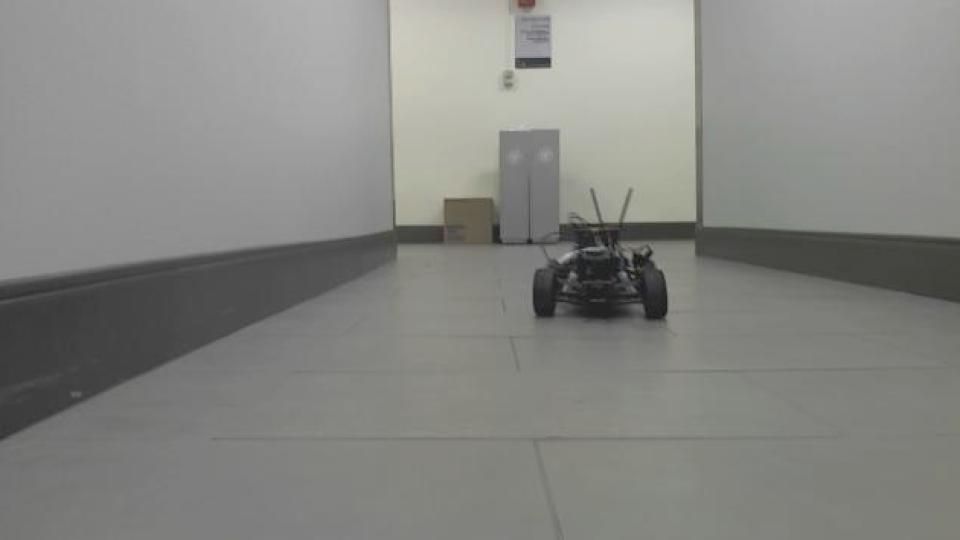car: (528, 184, 674, 324)
